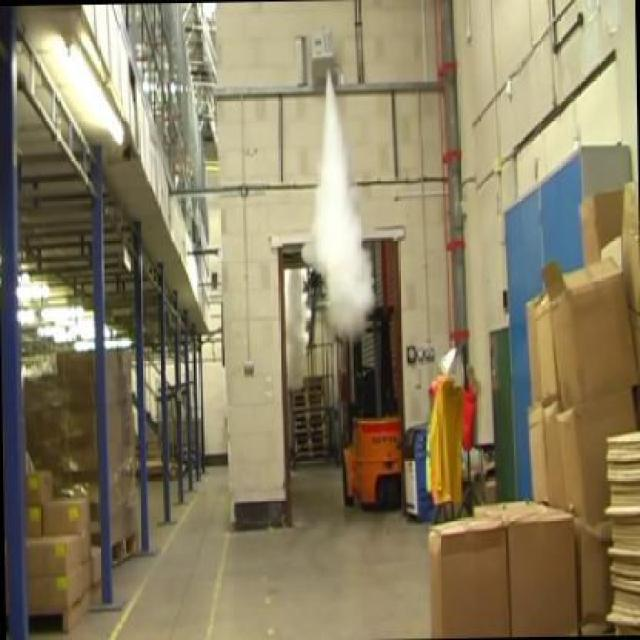fire: (295, 98, 383, 344)
